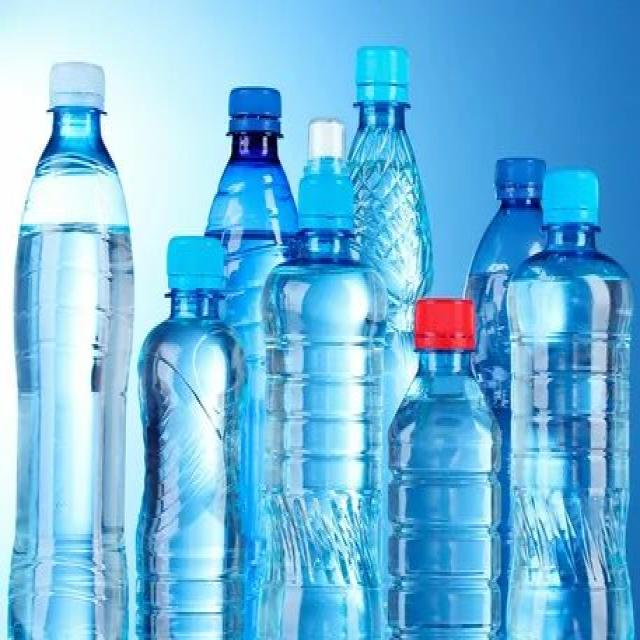blue: (263, 230, 384, 640), (139, 290, 248, 640), (389, 350, 498, 640)
